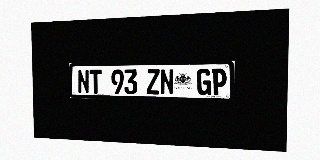3: (124, 69, 137, 94)
9: (111, 69, 124, 94)
G: (197, 69, 211, 95)
N: (160, 69, 174, 95), (77, 70, 89, 94)
P: (212, 68, 227, 95)
T: (89, 69, 102, 94)
Z: (146, 69, 160, 94)
